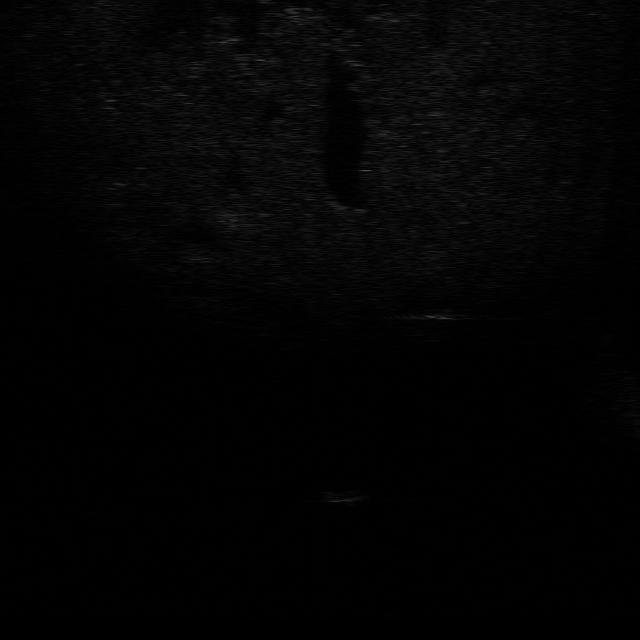cube: (318, 487, 368, 503)
square cage: (418, 302, 458, 323)
